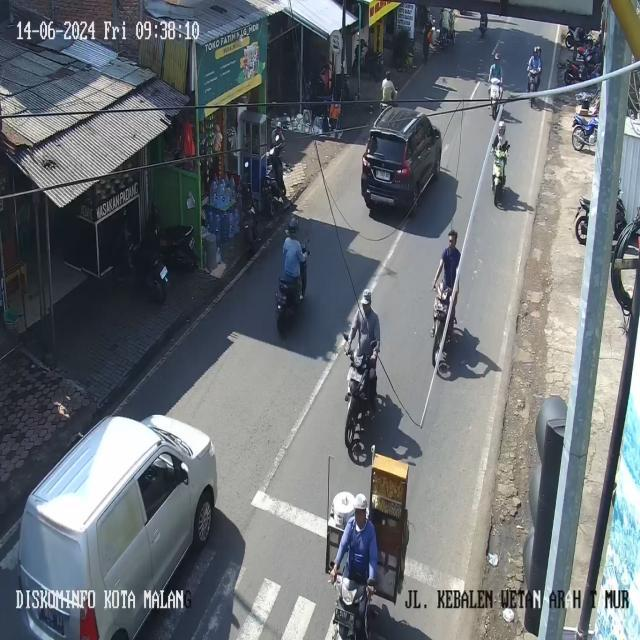Helmet: (354, 493, 367, 509), (287, 216, 298, 234), (360, 289, 372, 305), (498, 121, 506, 136), (275, 121, 282, 130), (533, 46, 540, 54), (494, 52, 500, 60), (385, 71, 390, 79)
Number Plate: (39, 608, 64, 635), (334, 607, 354, 625), (375, 169, 390, 180), (349, 369, 362, 381), (160, 267, 167, 278)
Rearview Mirror: (180, 462, 188, 484)
